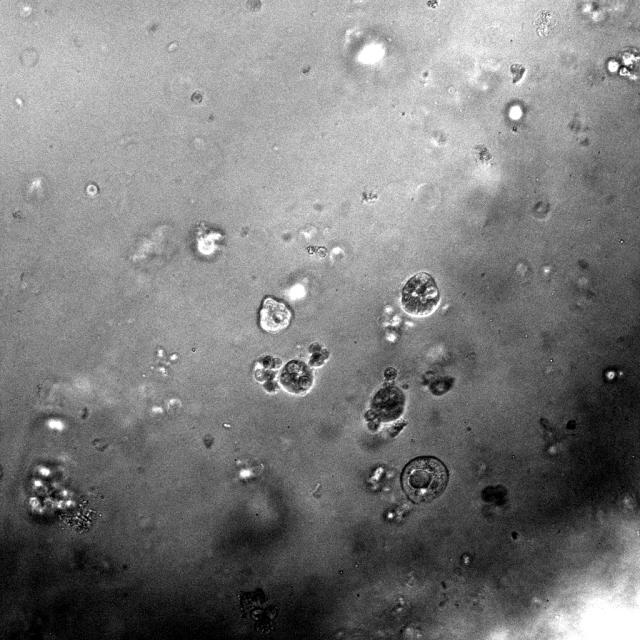organoid: (26, 460, 95, 530), (254, 343, 328, 395), (364, 368, 406, 436), (401, 456, 448, 503), (238, 589, 278, 634), (401, 272, 440, 316), (258, 296, 292, 334), (606, 48, 639, 80), (378, 305, 406, 341), (366, 463, 397, 492), (422, 369, 454, 395), (381, 502, 411, 524), (481, 485, 508, 505), (565, 420, 577, 430)
